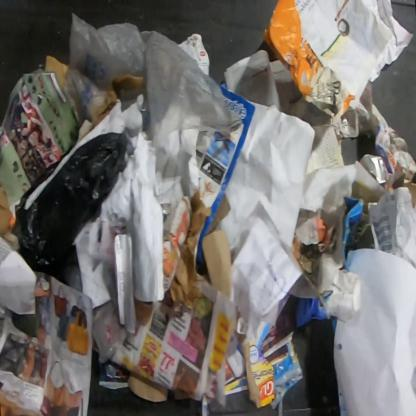cardboard: (261, 0, 357, 119), (168, 186, 213, 310), (342, 180, 384, 272), (163, 197, 191, 294), (93, 76, 142, 129), (240, 338, 276, 410), (201, 227, 233, 301), (294, 290, 333, 329), (127, 370, 170, 403), (205, 193, 231, 235), (44, 54, 68, 88), (392, 175, 415, 209), (62, 262, 82, 293)
soft_plastic: (61, 11, 242, 198), (11, 128, 135, 278), (90, 260, 129, 366), (270, 341, 305, 415)
